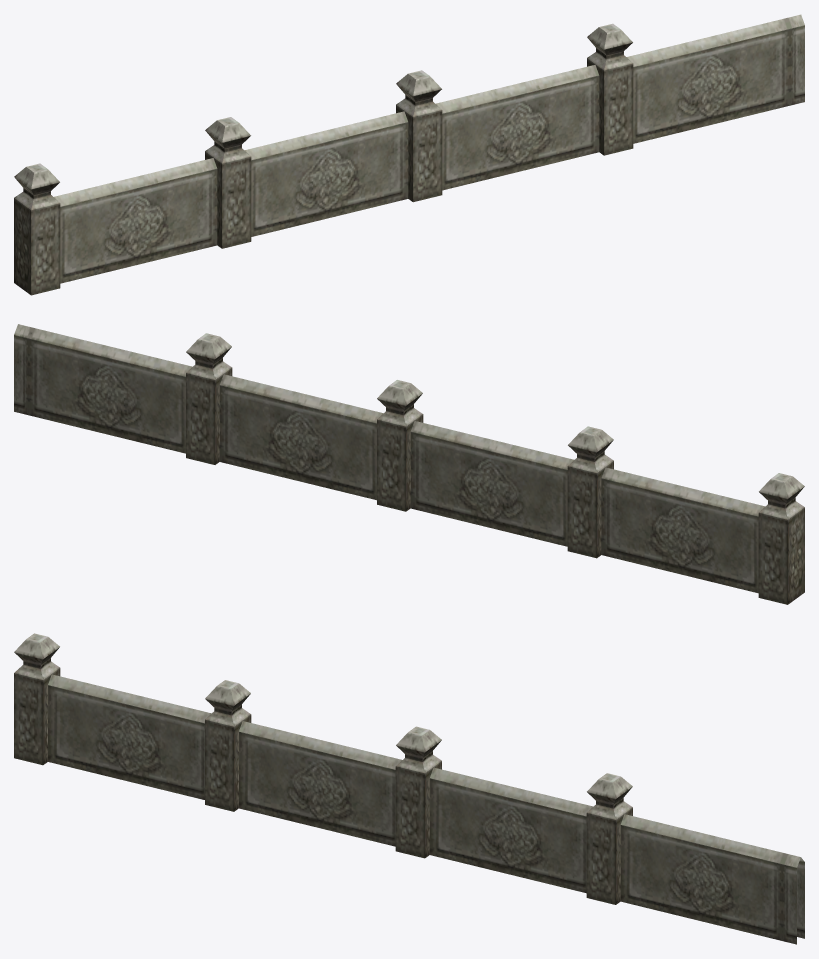
Rendered from secret_fence_02.fbx.
3 views of the same model, one above another, from view 1: azimuth 30°, elevation 25°; view 2: azimuth 150°, elevation 25°; view 3: azimuth 330°, elevation 25° (orthographic).
Parts seen in each view (by area): view 1: secret_fence_02; view 2: secret_fence_02; view 3: secret_fence_02.
Part boxes in pixels (left/top/right/bottom): secret_fence_02: left=14, top=14, right=804, bottom=295; secret_fence_02: left=14, top=324, right=804, bottom=604; secret_fence_02: left=14, top=633, right=804, bottom=944.
Size of the model in its own units: 8.15 by 1.18 by 0.3111.
